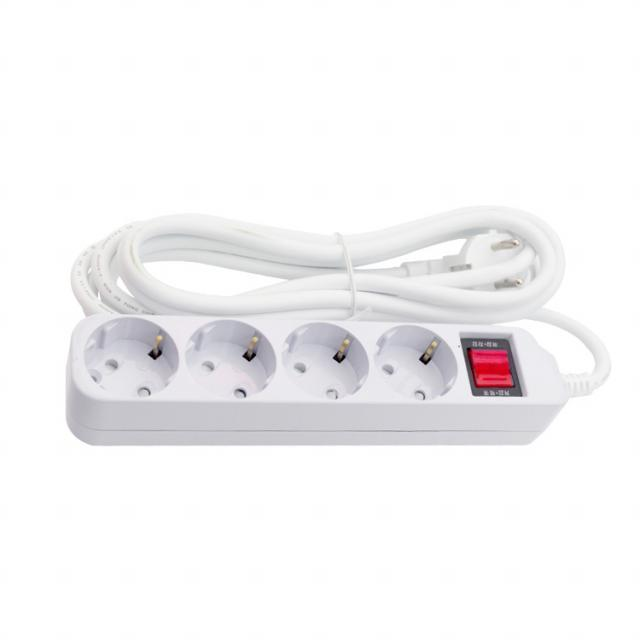typeb: (54, 287, 600, 473)
